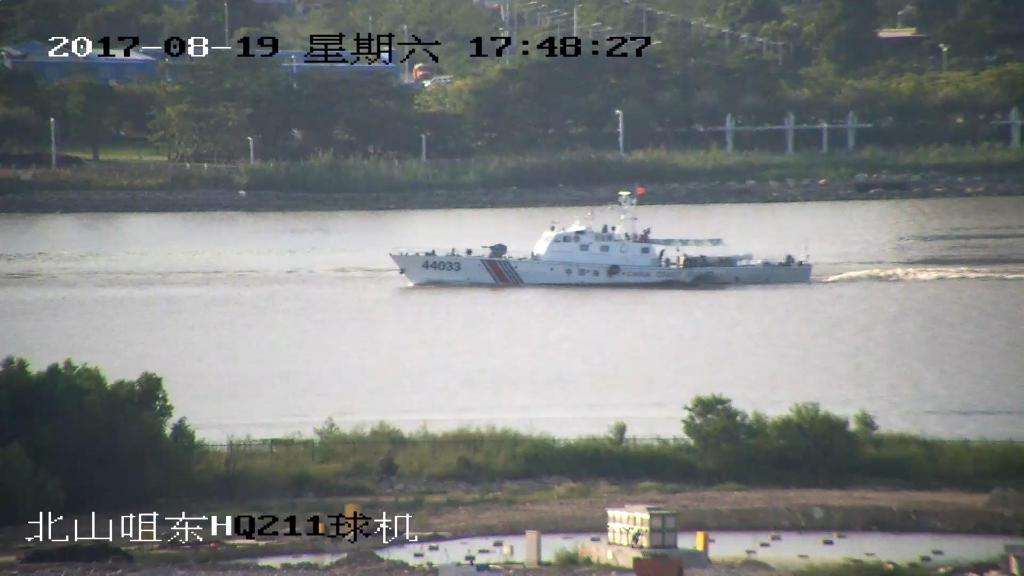Warship: (381, 186, 819, 290)
